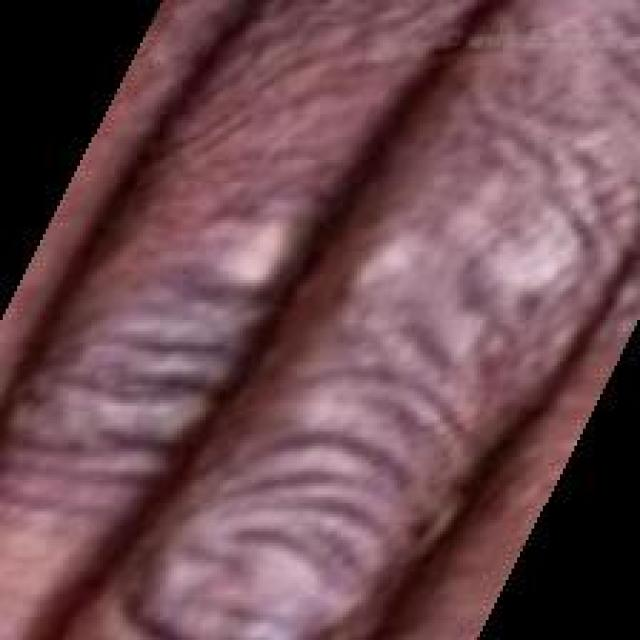monkeypox: (108, 2, 578, 632)
